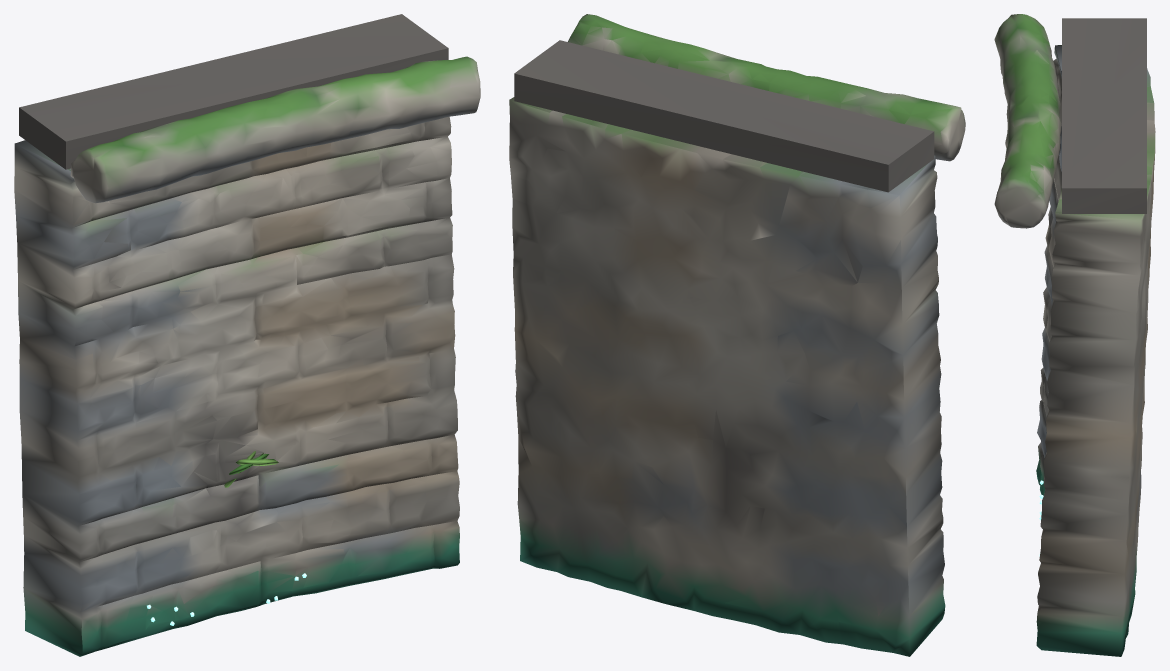
The model's file is grotto_basin_wall_b_lod1.glb.
3 renders of one model, left to right at view 1: azimuth 30°, elevation 25°; view 2: azimuth 150°, elevation 25°; view 3: azimuth 270°, elevation 25°, orthographic. The views are drawn at different scales.
Parts seen in each view (by area): view 1: grotto_basin_wall_b.001; view 2: grotto_basin_wall_b.001; view 3: grotto_basin_wall_b.001.
Boxes of the visible parts, box(x1,y1,x2,y2) form: grotto_basin_wall_b.001: box(14, 14, 480, 656); grotto_basin_wall_b.001: box(509, 14, 965, 656); grotto_basin_wall_b.001: box(994, 14, 1155, 656).
Bounding box in the file's own units: 29.73 × 36.91 × 11.36.
